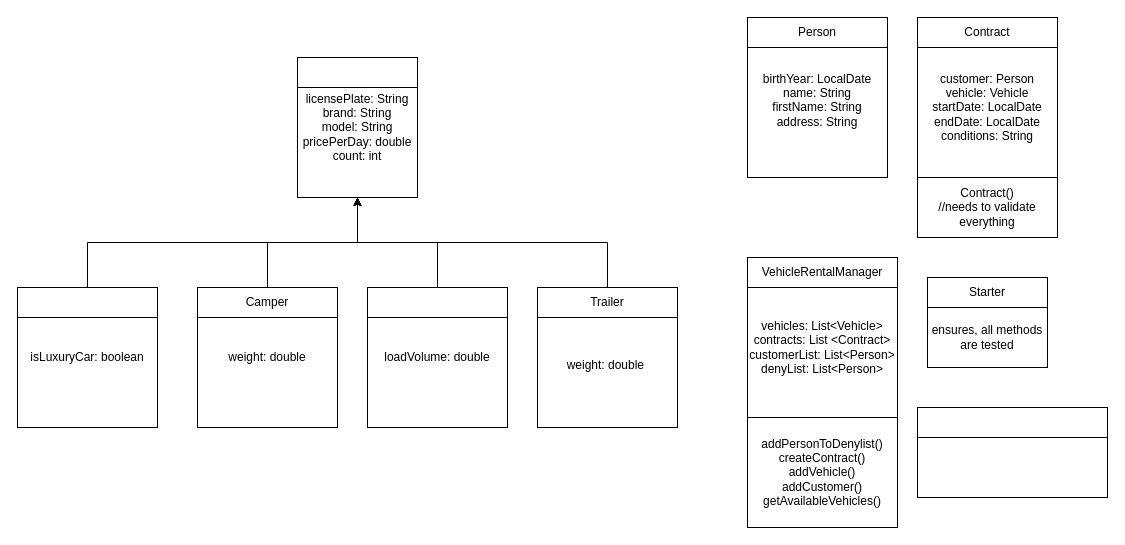
Image size: 1125x545. Some labels were removed from this diagram. The shapes that lost their labels are listed below. From the top down, each one's centre as x and y in pixels, then its label:
At (x=357, y=72): "Vehicle".
At (x=87, y=302): "Car".
At (x=437, y=302): "Truck".
At (x=1012, y=422): "Exceptions".
At (x=1012, y=467): "MinorAgeException LeaseLengthCollisionException DenylistedPersonException".
